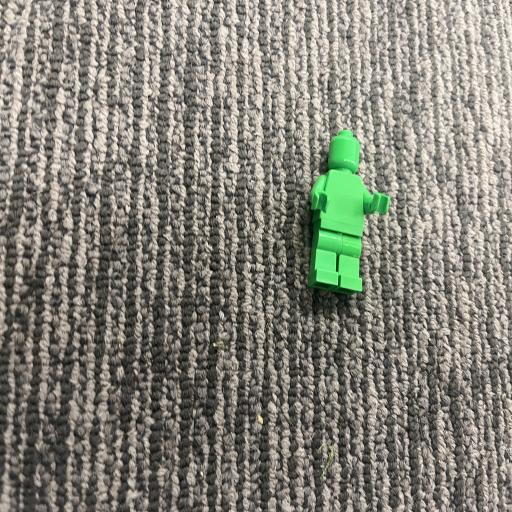Lego-Minifig: (309, 130, 390, 295)
